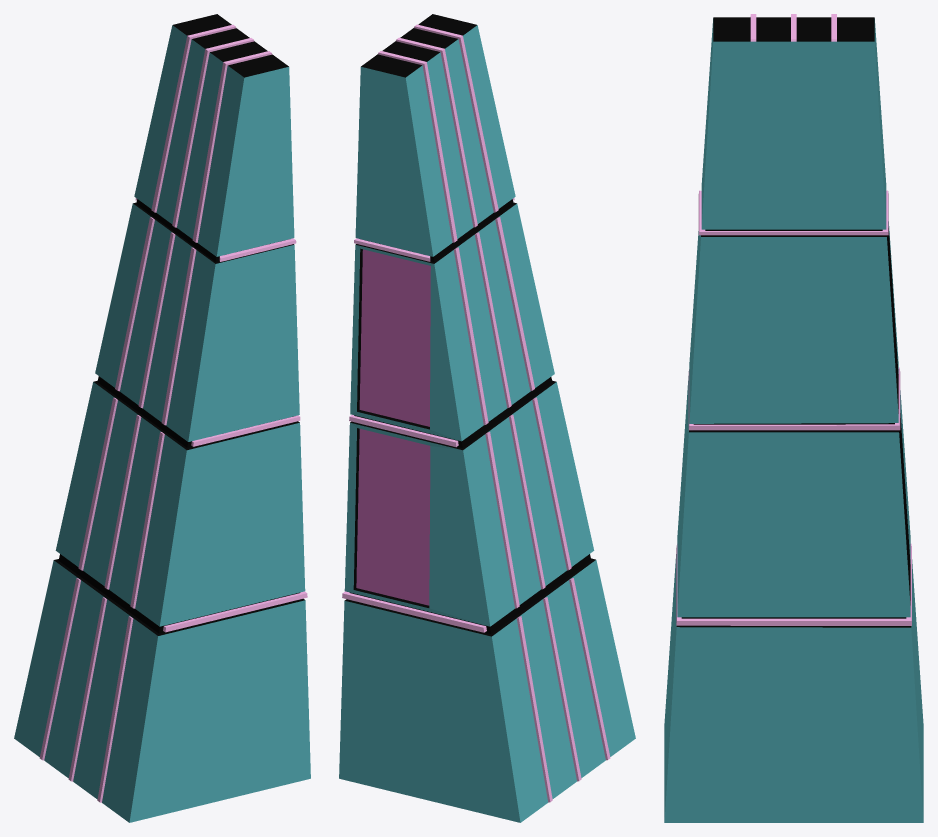
The model's file is SM_Environment_Buildings_Mid_04.fbx.
3 renders of one model, left to right at view 1: azimuth 30°, elevation 25°; view 2: azimuth 150°, elevation 25°; view 3: azimuth 270°, elevation 25°, orthographic. The views are drawn at different scales.
Visible parts, largest first — view 1: SM_Environment_Buildings_Mid_04, Lights; view 2: SM_Environment_Buildings_Mid_04, Lights; view 3: SM_Environment_Buildings_Mid_04, Lights.
Boxes of the visible parts, <box> form: SM_Environment_Buildings_Mid_04: <box>14,14,310,822</box>; Lights: <box>39,24,307,802</box>; SM_Environment_Buildings_Mid_04: <box>339,14,635,822</box>; Lights: <box>342,24,610,802</box>; SM_Environment_Buildings_Mid_04: <box>664,17,923,822</box>; Lights: <box>676,14,911,625</box>.
Size of the model in its own units: 12.83 by 46.13 by 13.82.
